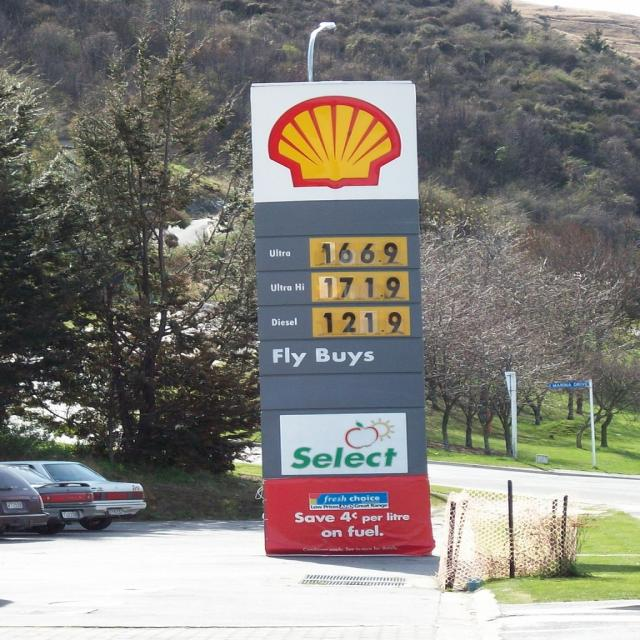shell: (267, 96, 405, 190)
